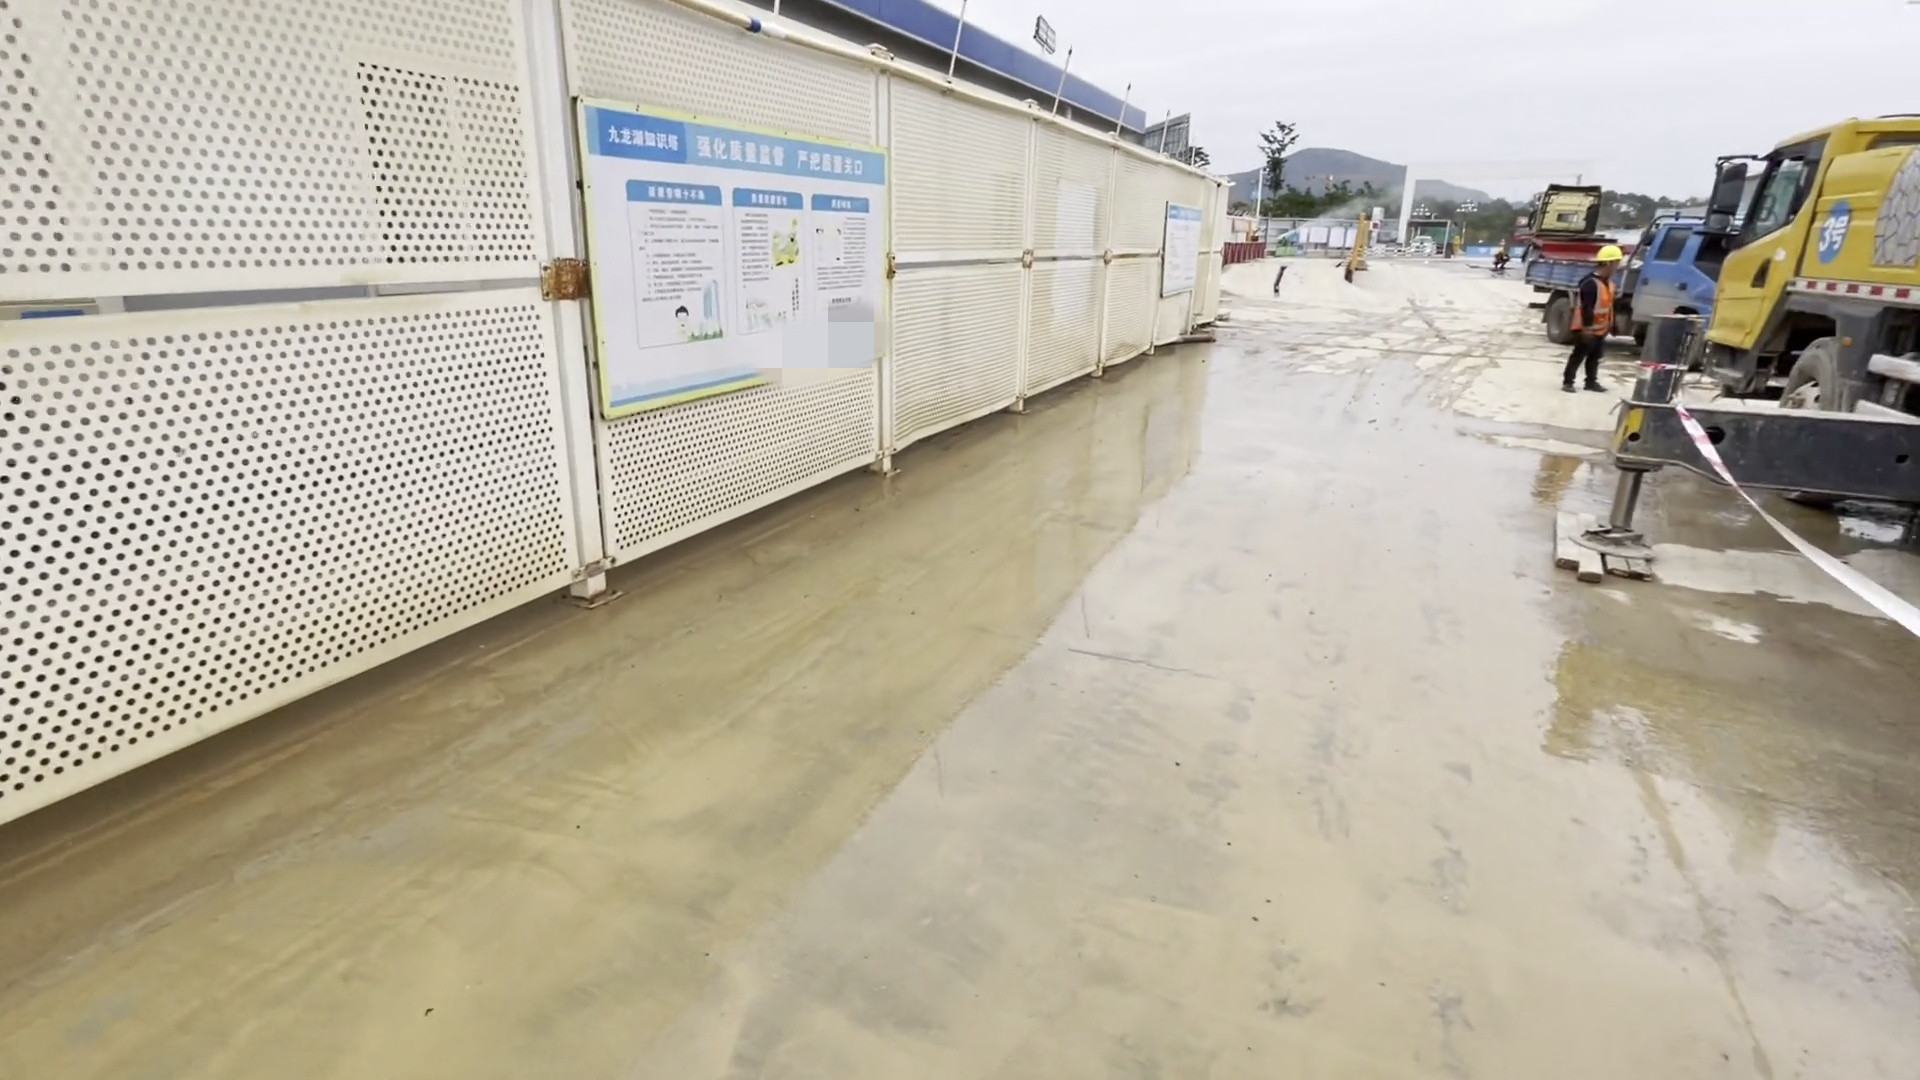slogan: (578, 102, 882, 415)
